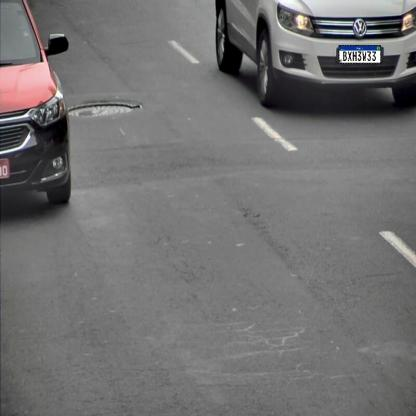PlacaM: (339, 45, 381, 64)
